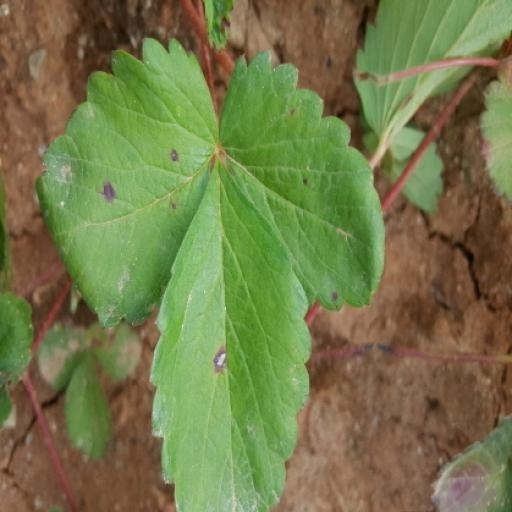Leaf Spot: (200, 153, 362, 511), (293, 37, 477, 331), (127, 50, 293, 310), (0, 54, 35, 213), (369, 320, 425, 382)
